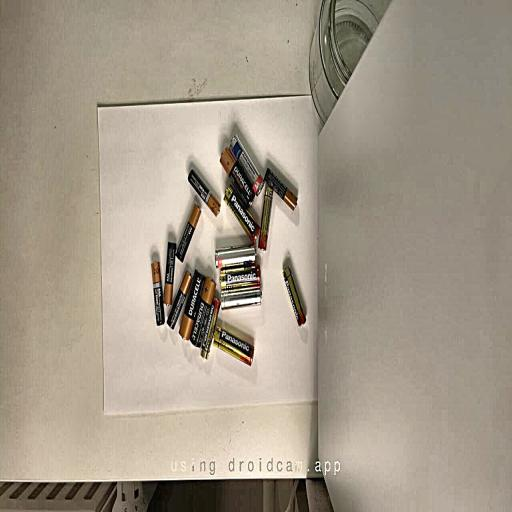DuracellAA: (220, 147, 255, 206), (179, 270, 204, 340), (192, 277, 216, 346)
DuracellAAA: (166, 271, 192, 329), (188, 169, 220, 216), (264, 167, 297, 210), (176, 203, 200, 262), (151, 262, 164, 325), (164, 243, 175, 304)
PanasonicAA: (224, 186, 260, 243), (214, 326, 254, 366), (220, 265, 260, 289)
PanasonicAAA: (283, 267, 306, 326), (202, 298, 220, 358), (258, 186, 273, 250)
RainbowAA: (231, 133, 262, 195), (215, 245, 256, 269), (221, 288, 262, 309)
